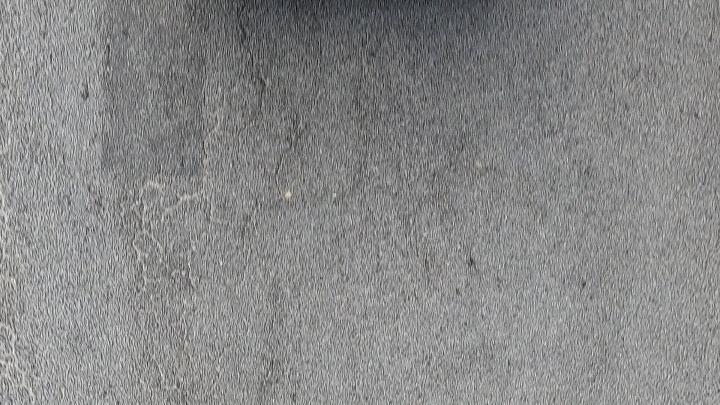Crack: (233, 1, 274, 118), (237, 0, 266, 115)
